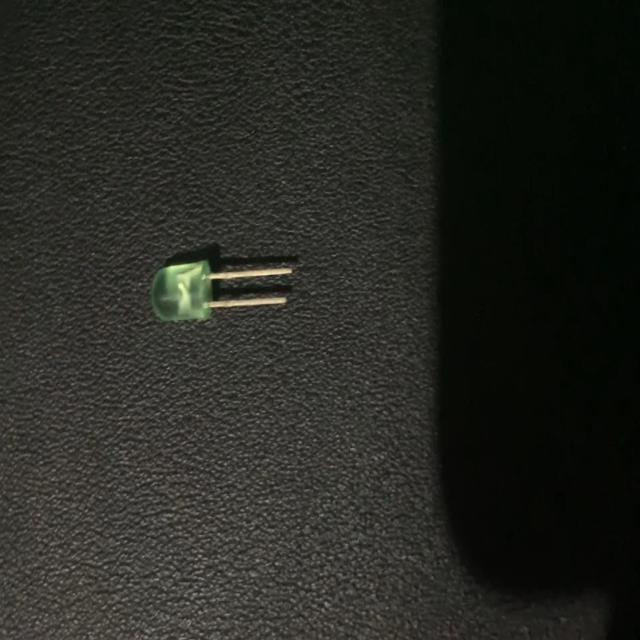LED: (149, 259, 296, 324)
